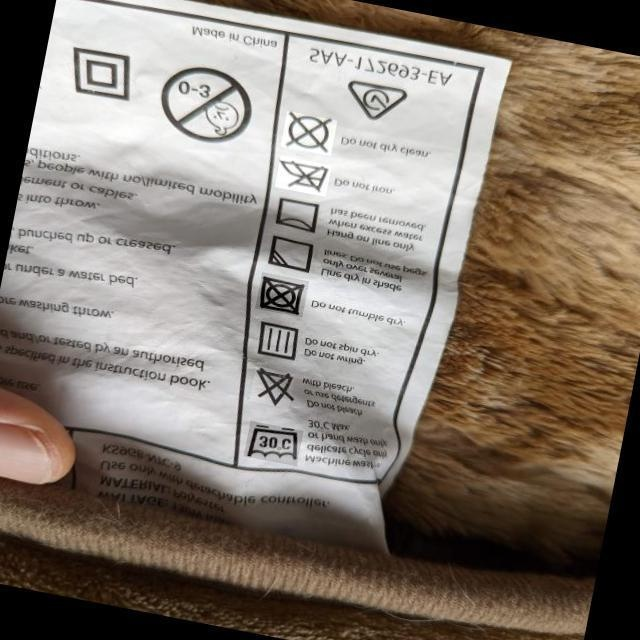30C: (244, 422, 298, 465)
DN_bleach: (253, 367, 295, 409)
DN_dry_clean: (285, 111, 332, 153)
DN_iron: (280, 158, 328, 193)
DN_tumble_dry: (255, 276, 306, 320)
drip_dry: (255, 319, 299, 364)
line_dry: (274, 195, 322, 234)
shade_dry: (266, 235, 315, 273)
